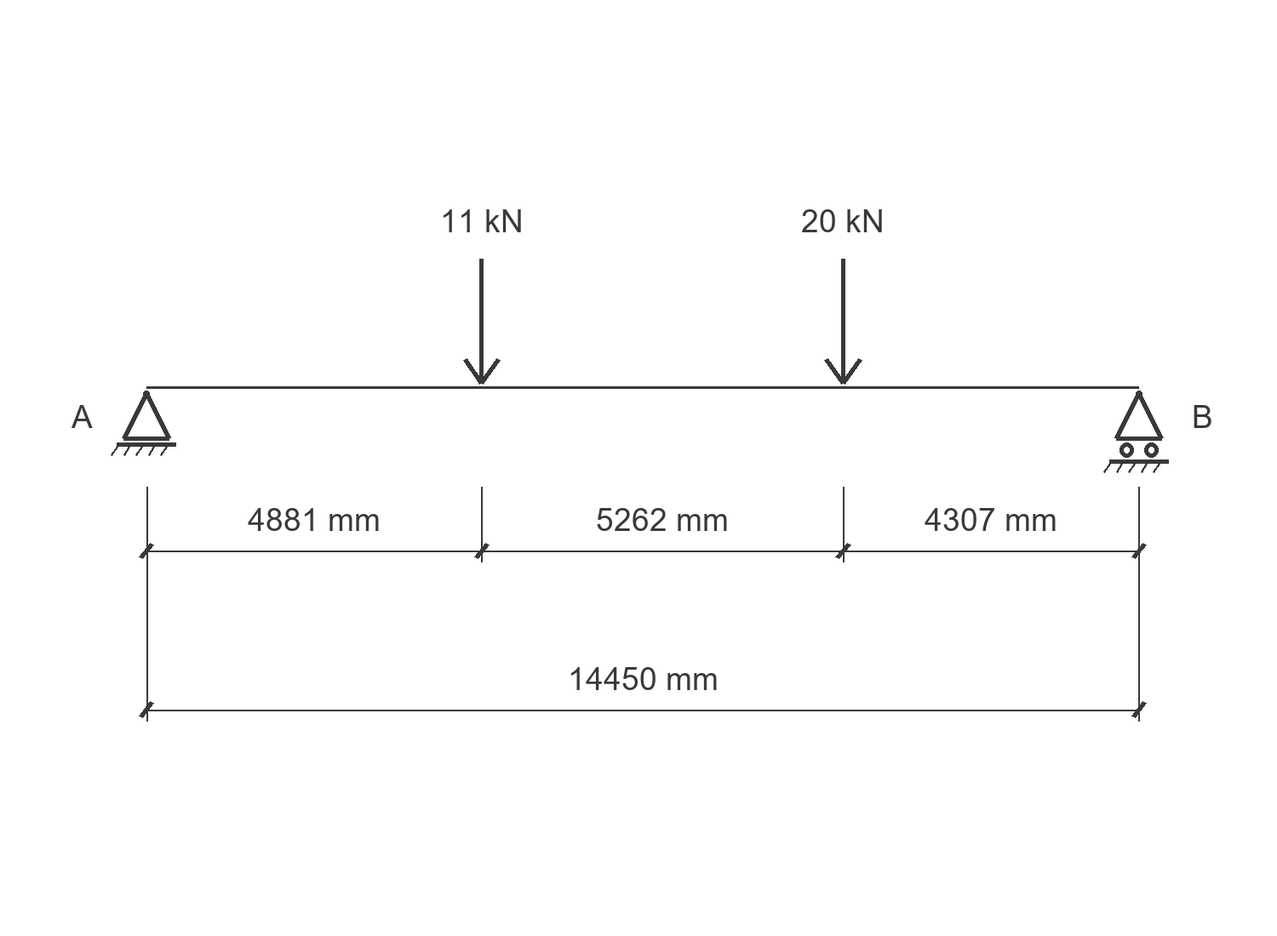pin_support: (111, 391, 176, 456)
point_load: (463, 259, 501, 385), (824, 259, 862, 385)
roller_support: (1103, 391, 1169, 473)
